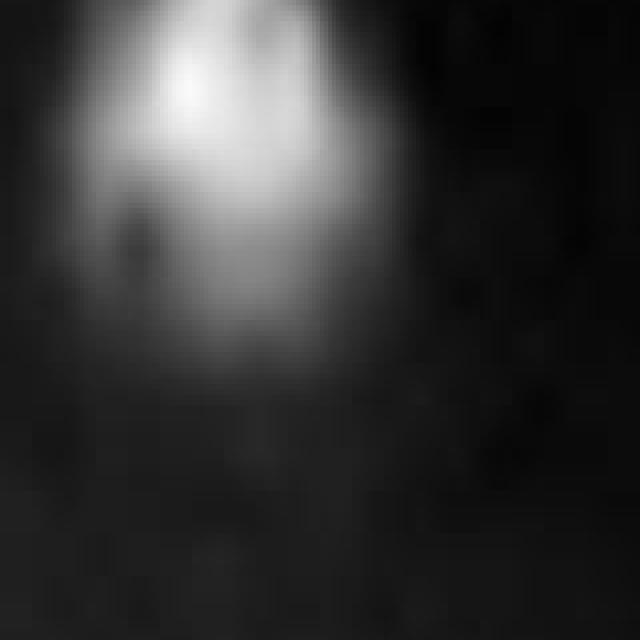person: (85, 1, 397, 417)
